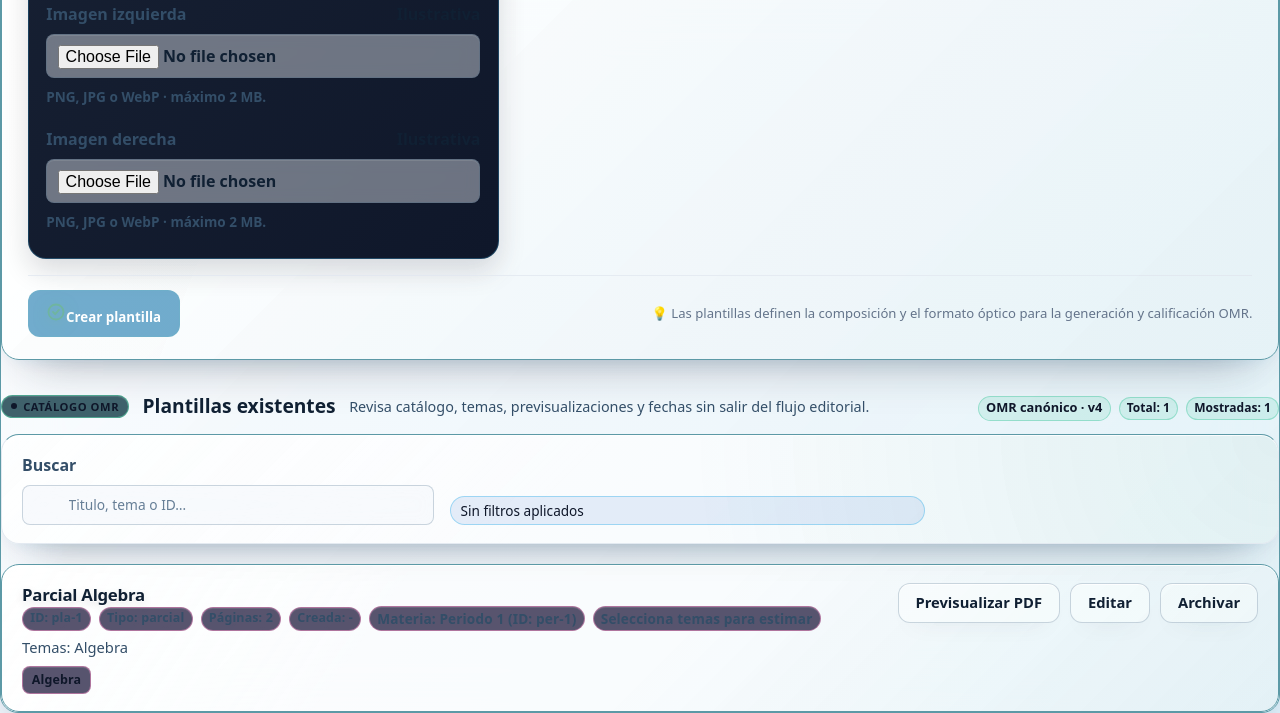
Test case: plantillas refactor y navegación por pestañas (SPEC-034) › permite iniciar la edición de una plantilla cargando sus datos en el formulario
The image size is (1280, 713).
(page scrolled)
Click the button "Editar": coordinates (1110, 602) [1070,582,1150,623]
(page scrolled)
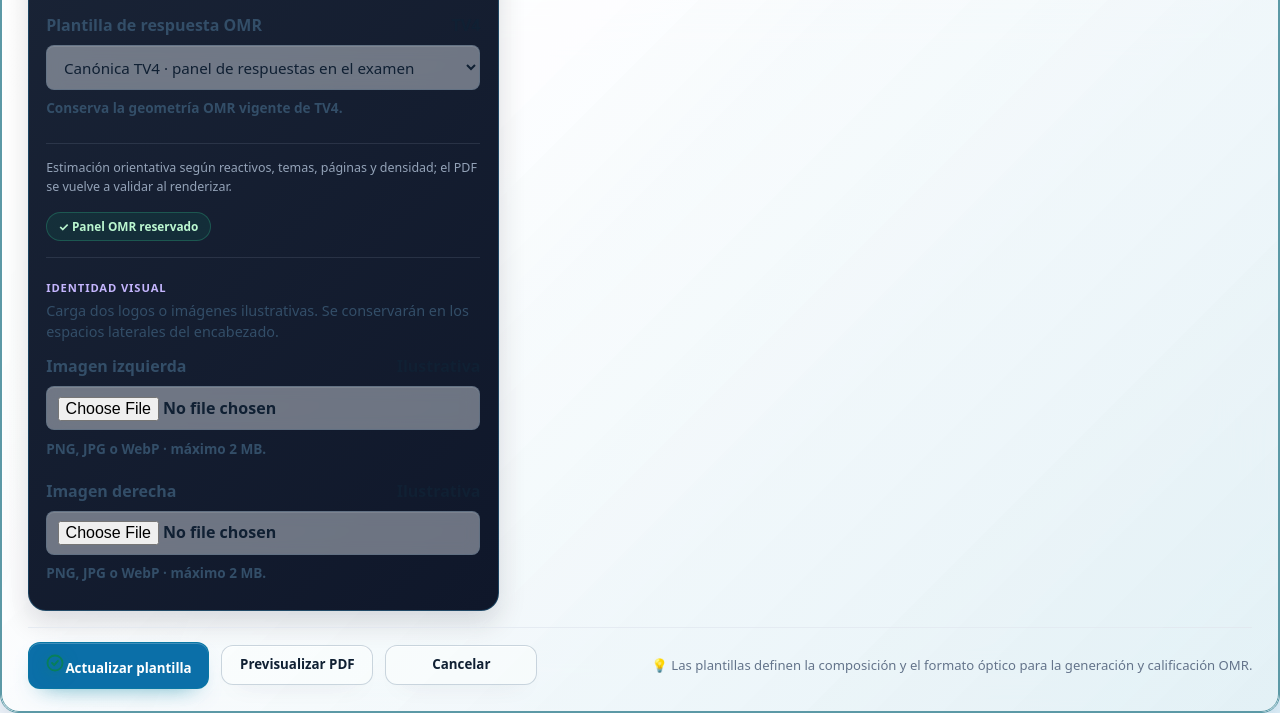
Expected: the button "Actualizar plantilla" is shown, [28,642,209,689]
Expected: the number of buttons "Previsualizar PDF" is 2
Expected: the button "Cancelar" is shown
Cancelar edición
Click the button "Cancelar": coordinates (461, 665) [385,645,537,685]
(page scrolled)
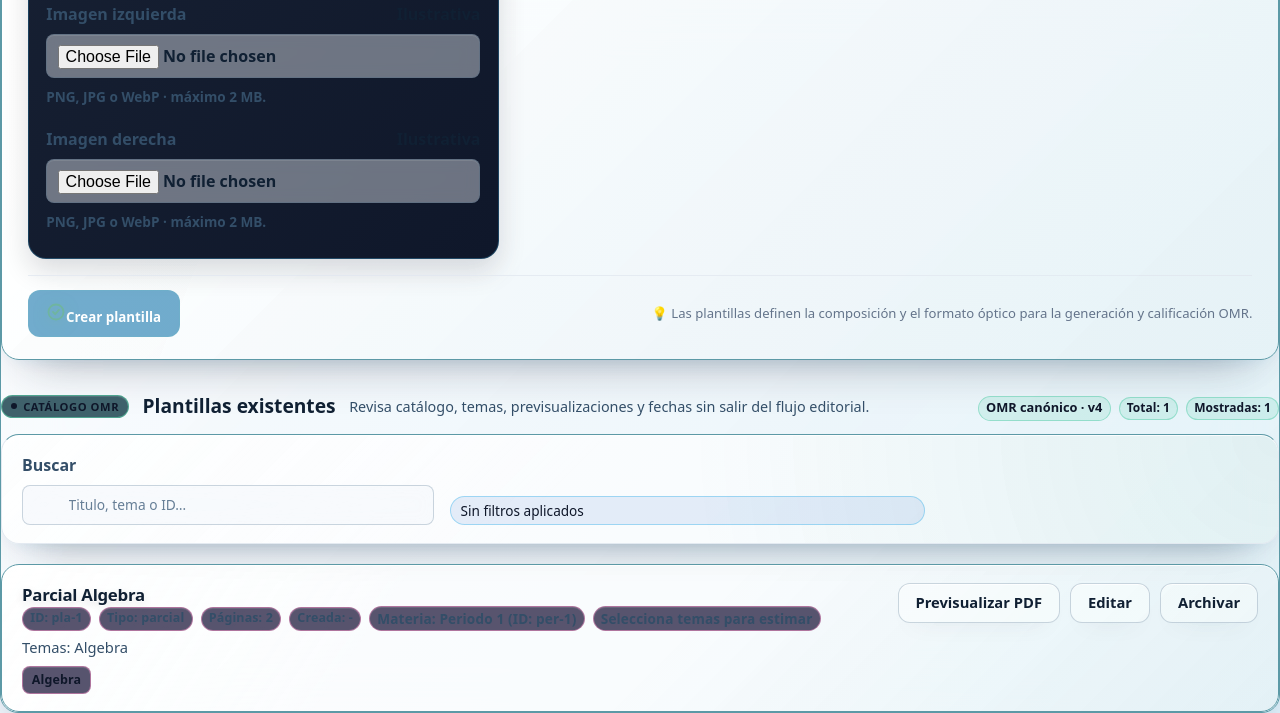
Expected: the button "Crear plantilla" is shown, [28,290,180,337]
